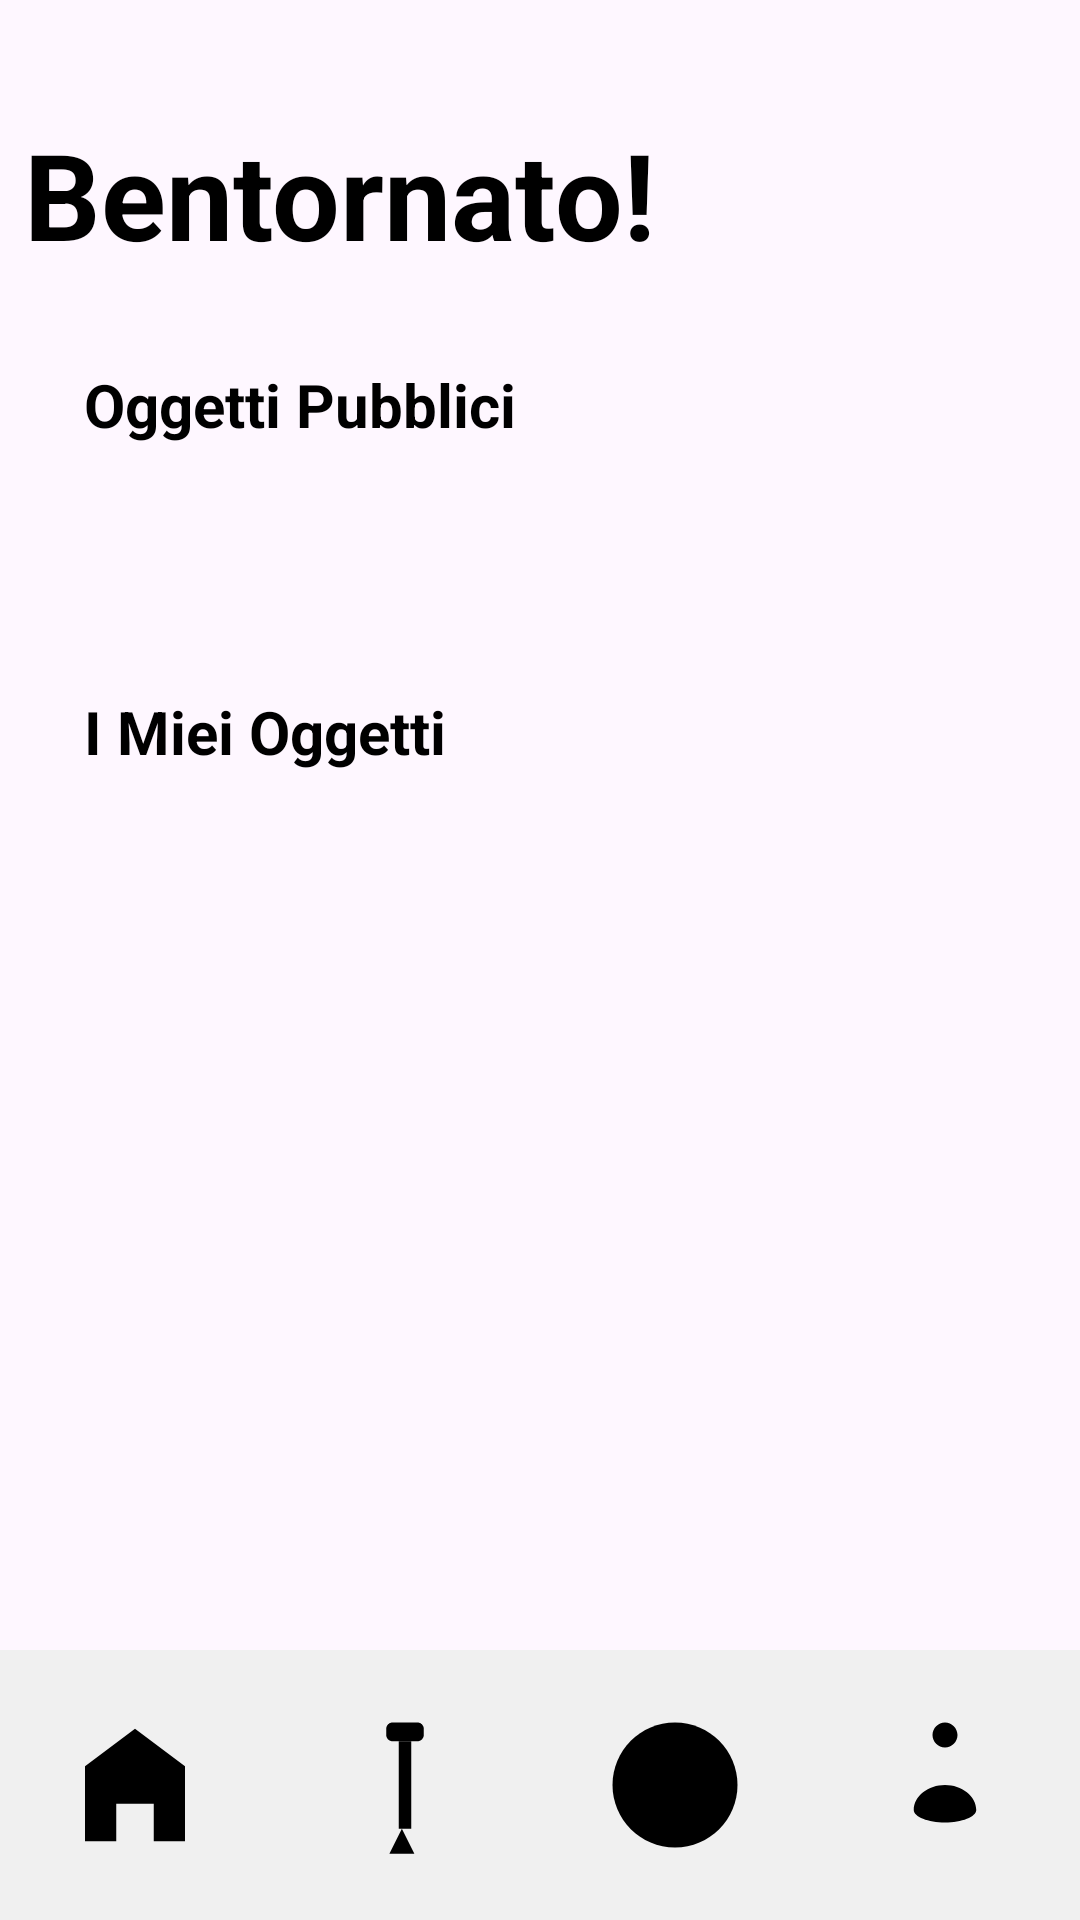

Named icons in this screenshot (1080 x 1920) and their centers, (x=x, y=y):
Home: (x=135, y=1785)
Profilo: (x=945, y=1772)
tool: (x=405, y=1788)
